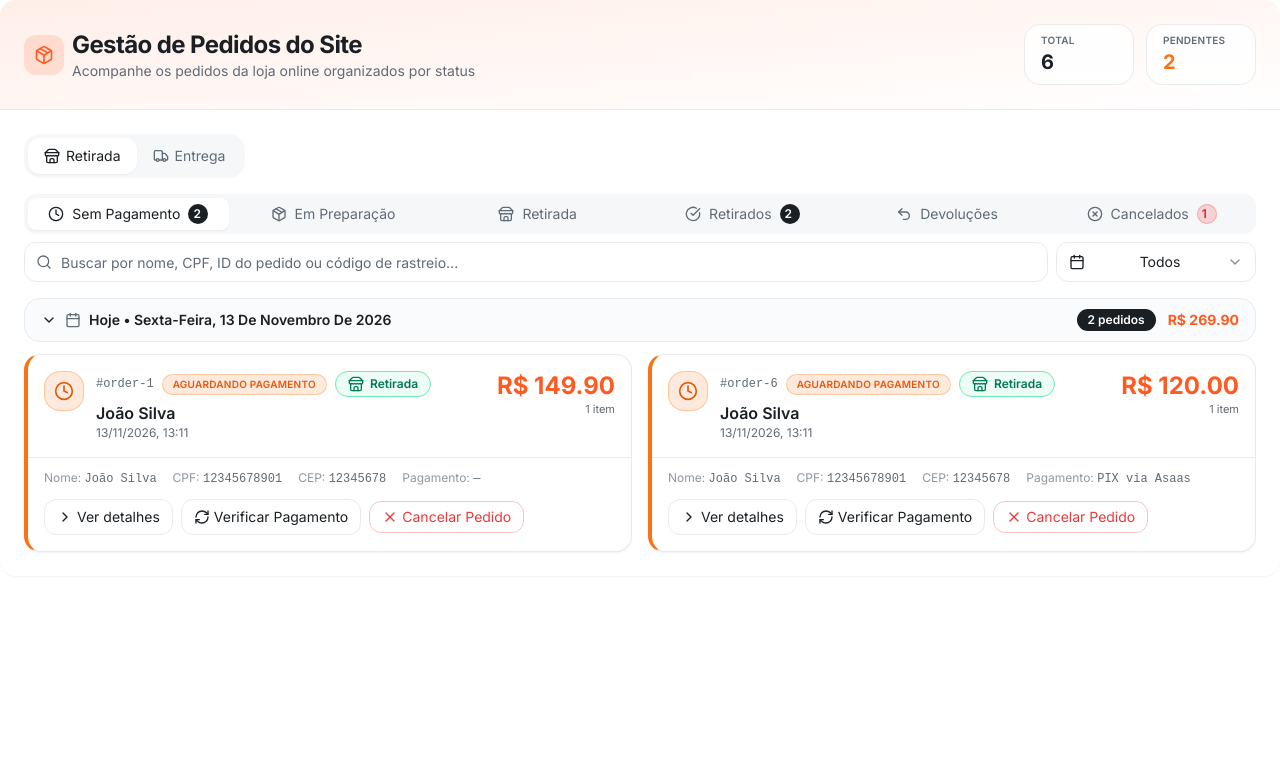
Test: OrdersManagement — fluxo de cancelamento e estorno › pedido retirado (pickup) exibe botão "Confirmar Devolução" em vez de "Solicitar Devolução"
No fluxo Retirada (default), clica na aba "Retirados" para pedidos retirados (pickup)
What coordinates should you click on to do the following:
click the tab "Retirados 2"
I would click on:
 (742, 214)
Its box is [642, 198, 843, 230].
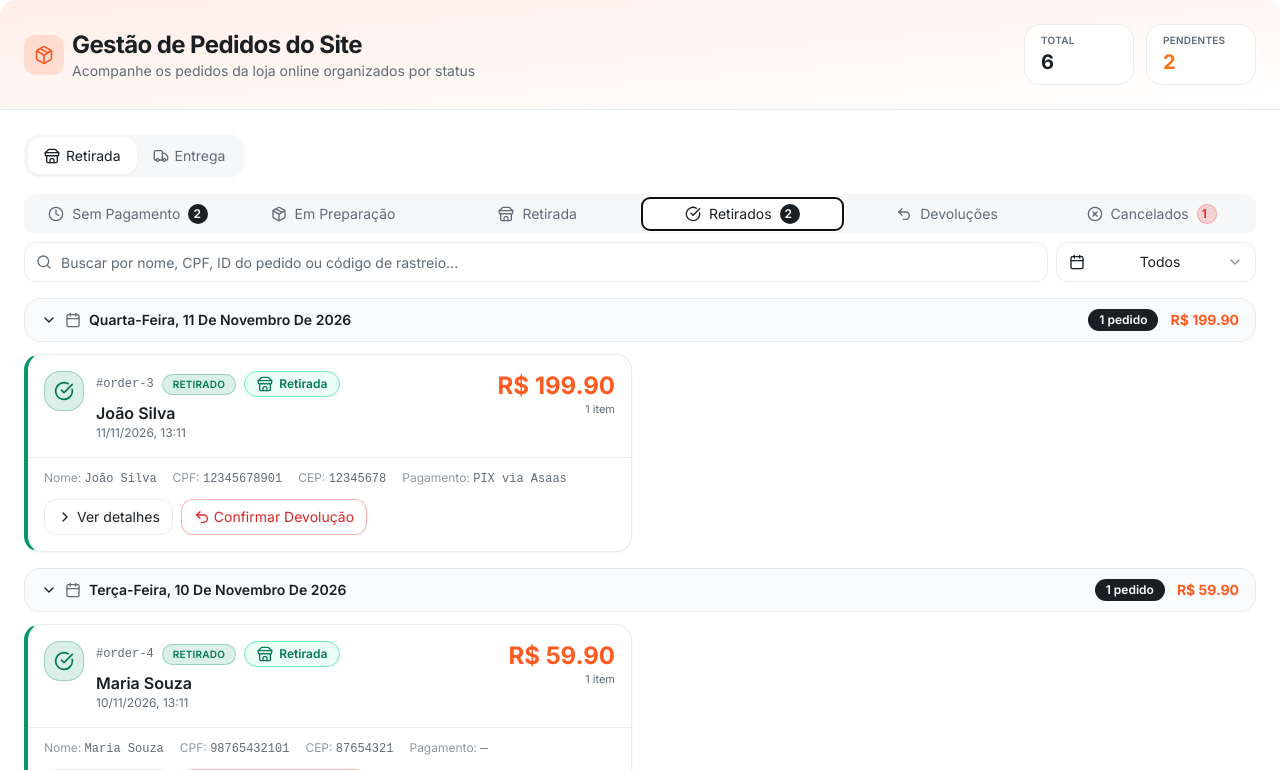
Agora no fluxo Entrega, clica em "Entregues" para ver o pedido entregado (delivery)
What coordinates should you click on to do the following:
click the button "Entrega"
I would click on:
 (189, 156)
Its box is [136, 138, 241, 174].
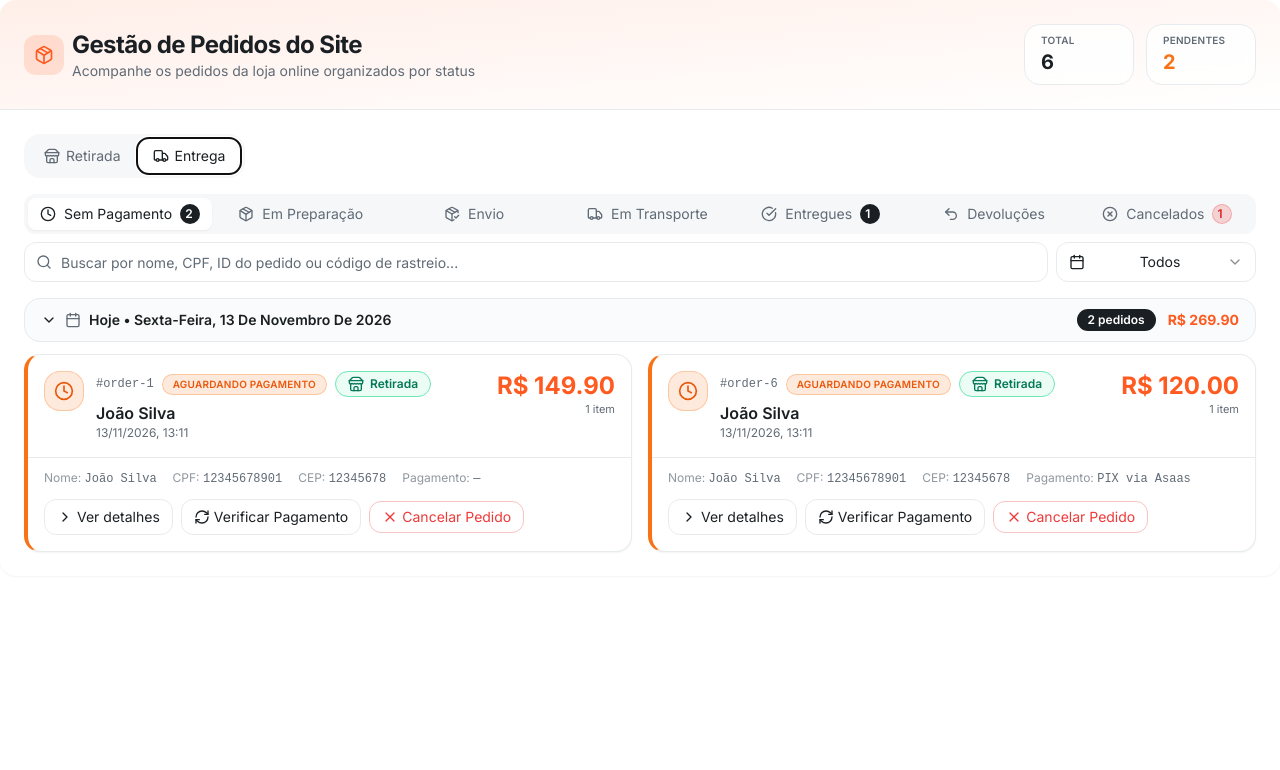
What coordinates should you click on to do the following:
click the tab "Entregues 1"
I would click on:
 (821, 214)
Its box is [736, 198, 905, 230].
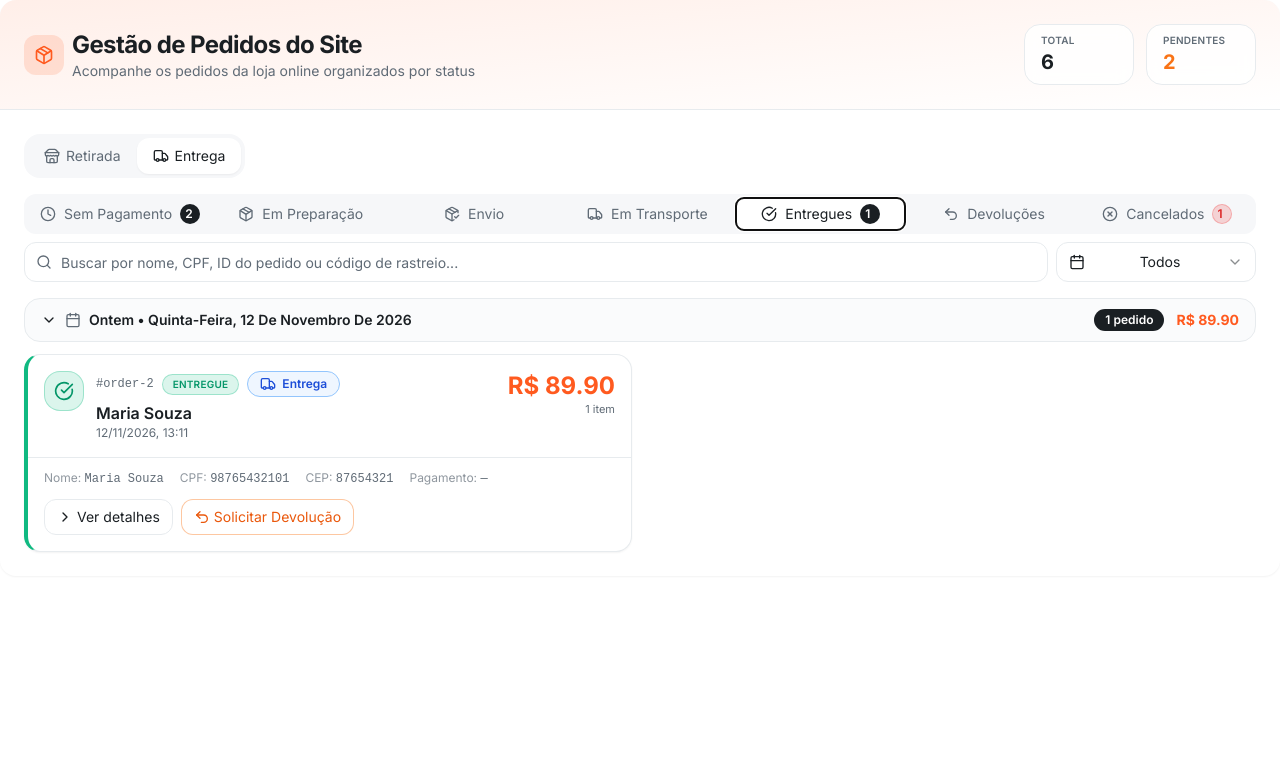
Check: the number of buttons "Solicitar Devolução" is 1, box [181, 499, 354, 535]
